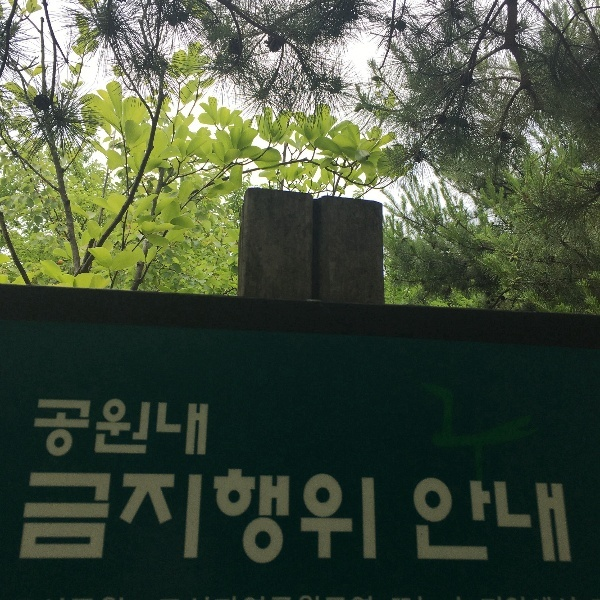text: (33, 466, 48, 571), (49, 466, 64, 571), (65, 466, 80, 571), (81, 466, 96, 571), (97, 466, 112, 571), (113, 466, 128, 571), (129, 466, 144, 571), (145, 466, 160, 571), (161, 466, 176, 571), (177, 466, 192, 571), (193, 466, 208, 571), (209, 466, 224, 571), (225, 466, 240, 571), (241, 466, 256, 571), (257, 466, 272, 571), (273, 466, 288, 571), (289, 466, 304, 571), (305, 466, 320, 571), (321, 466, 336, 571), (337, 466, 352, 571), (353, 466, 368, 571), (417, 476, 432, 570), (433, 476, 448, 570), (449, 476, 464, 570), (465, 476, 480, 570), (481, 476, 496, 570), (497, 476, 512, 570), (513, 476, 528, 570), (529, 476, 544, 570), (545, 476, 560, 570), (561, 476, 576, 570), (369, 466, 379, 571), (49, 393, 64, 459), (65, 393, 80, 459), (81, 393, 96, 459), (97, 393, 112, 459), (113, 393, 128, 459), (129, 393, 144, 459), (145, 393, 160, 459), (161, 393, 176, 459), (177, 393, 192, 459), (193, 393, 208, 459), (35, 393, 48, 459), (28, 466, 32, 571), (412, 476, 416, 570), (209, 393, 211, 459)
